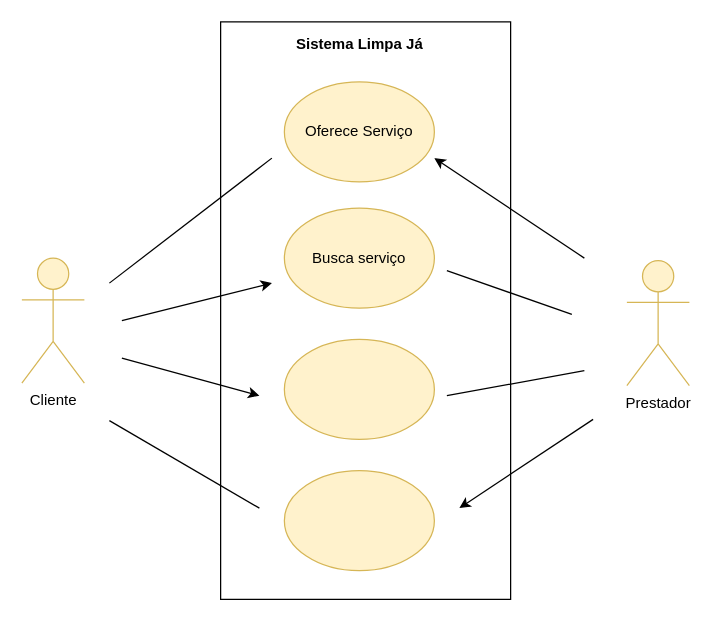
The diagram is 713 pixels wide and 621 high, and some of its shapes have lost their labels. Each missing label, with the centre of its shape:
"Confirma agenda do serviço" belongs at point (358, 520).
"Solicita agenda do serviço" belongs at point (358, 388).
